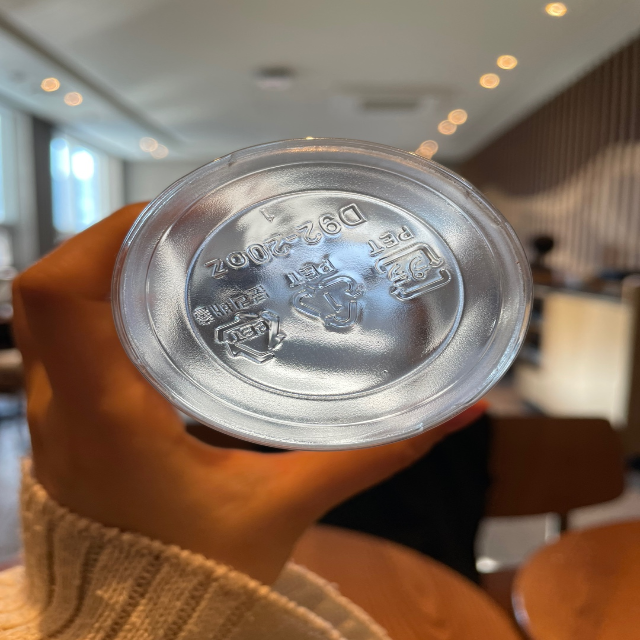pet: (188, 281, 286, 372), (362, 225, 457, 307), (282, 259, 366, 341)
